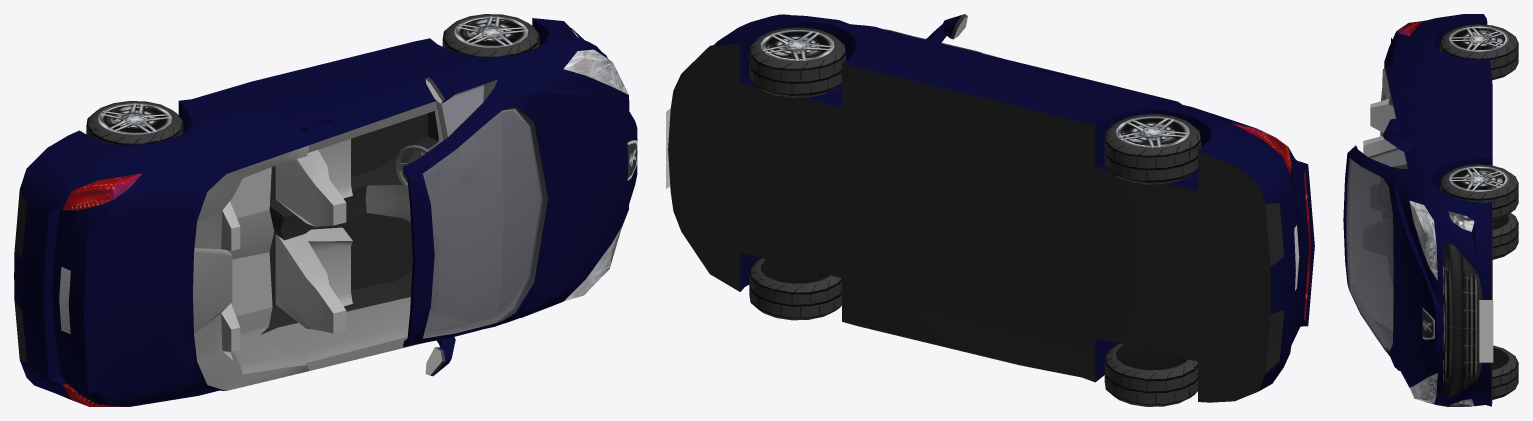
File: L28_convertible.glb
The picture shows the model from 3 angles, left to right: view 1: azimuth 30°, elevation 25°; view 2: azimuth 150°, elevation 25°; view 3: azimuth 270°, elevation 25°; orthographic projection. The views are drawn at different scales.
Visible parts, largest first — view 1: Object_7, Object_14, Object_9, Object_10, Object_12, Object_18, Object_17, Object_13, Object_15, Object_4, Object_6; view 2: Object_12, Object_7, Object_17, Object_18, Object_15; view 3: Object_7, Object_14, Object_17, Object_2, Object_18, Object_13, Object_10, Object_6, Object_5, Object_9, Object_12, Object_15 (+1 smaller).
Boxes of the visible parts, x1,y1,x2,y2 form: Object_7: [14, 18, 637, 406]; Object_14: [423, 84, 542, 338]; Object_9: [193, 101, 443, 390]; Object_10: [221, 139, 352, 359]; Object_12: [14, 93, 542, 362]; Object_18: [97, 16, 528, 134]; Object_17: [86, 14, 539, 144]; Object_13: [563, 29, 628, 301]; Object_15: [63, 173, 142, 406]; Object_4: [426, 77, 547, 376]; Object_6: [59, 267, 70, 334]; Object_12: [668, 43, 1284, 402]; Object_7: [691, 14, 1314, 390]; Object_17: [749, 27, 1201, 406]; Object_18: [760, 30, 1189, 370]; Object_15: [1231, 123, 1311, 348]; Object_7: [1343, 14, 1492, 406]; Object_14: [1346, 149, 1406, 351]; Object_17: [1440, 24, 1518, 399]; Object_2: [1443, 243, 1482, 396]; Object_18: [1449, 26, 1509, 369]; Object_13: [1409, 201, 1474, 406]; Object_10: [1363, 93, 1396, 156]; Object_6: [1479, 300, 1493, 362]; Object_5: [1422, 307, 1434, 339]; Object_9: [1380, 68, 1443, 308]; Object_12: [1491, 208, 1492, 405]; Object_15: [1396, 20, 1424, 36].
Bounding box in the file's own units: 4.44 × 2.1 × 1.39.
Materials: 15 (5 with a texture image).
